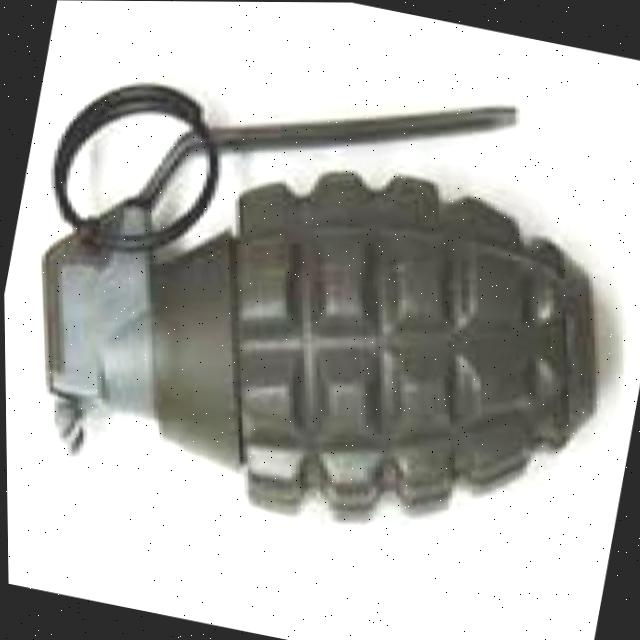grenade: (0, 0, 640, 632)
